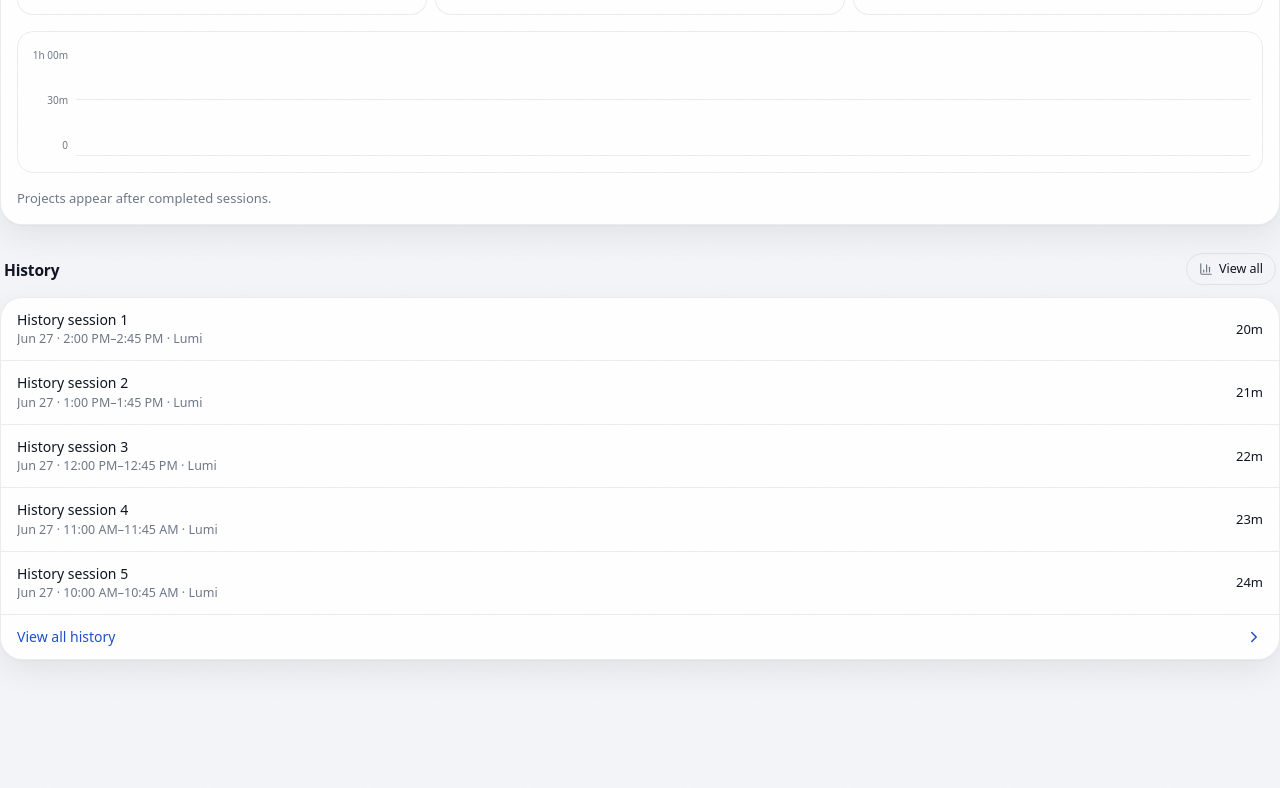
Scenario: FocusPage › caps main history preview at five sessions and opens full history
This screenshot has width=1280, height=788.
(page scrolled)
Expected: the text "History session 1" is shown, top-left (17, 310), bottom-right (128, 329)
Expected: the text "History session 5" is shown, top-left (17, 564), bottom-right (128, 583)
Click the button "View all history".
click(66, 637)  # box top-left (1, 614), bottom-right (1279, 659)
(page scrolled)
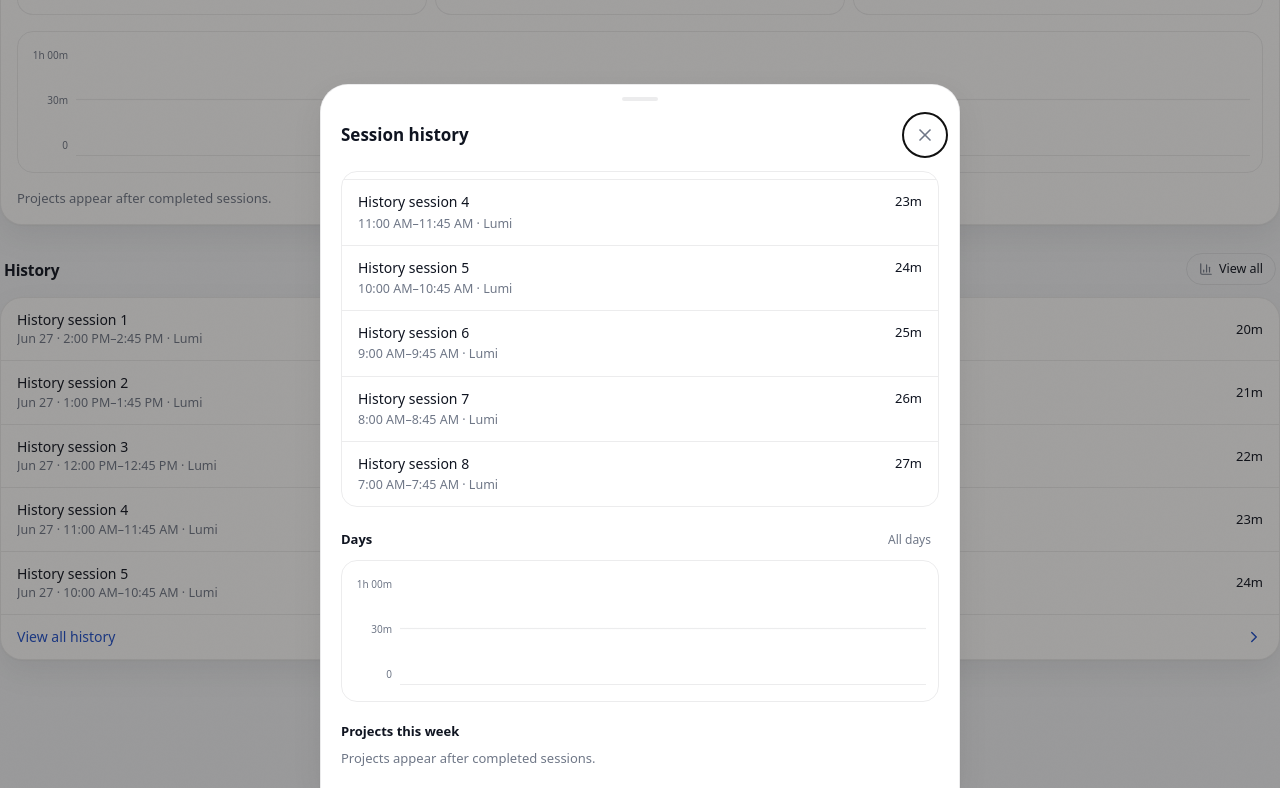
Expected: the text "History session 8" is shown, top-left (358, 454), bottom-right (469, 473)
